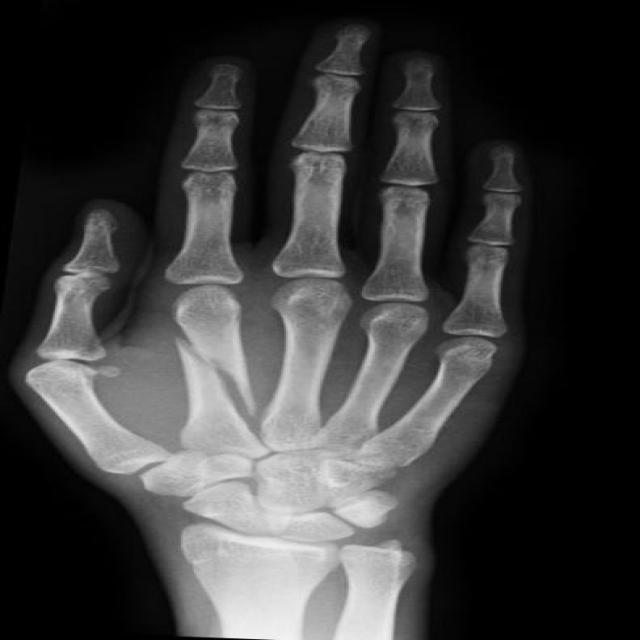Oblique Displaced: (153, 326, 271, 417)
